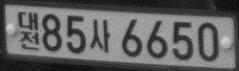0: (196, 21, 219, 62)
5: (171, 21, 193, 60), (66, 14, 86, 54)
6: (145, 20, 168, 59), (121, 18, 142, 57)
8: (41, 13, 62, 52)
대전_V: (16, 10, 40, 51)
사: (89, 18, 111, 52)
